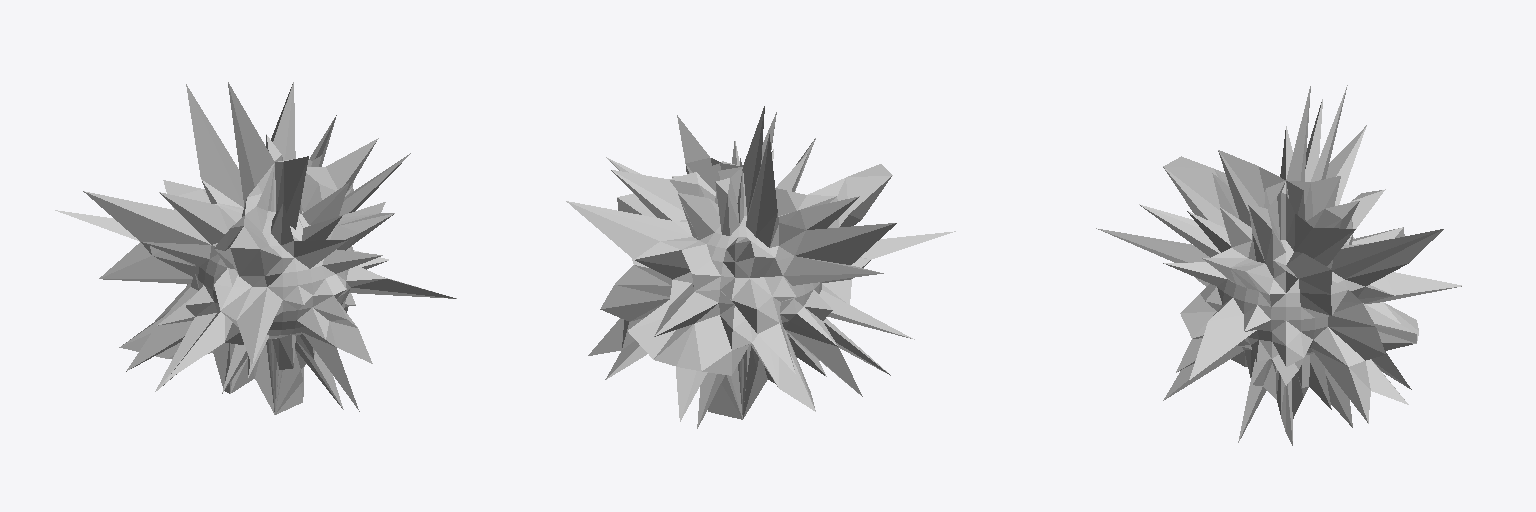
The model's file is outside_ball_piek_2.obj.
3 views of the same model, side by side, from view 1: azimuth 30°, elevation 25°; view 2: azimuth 150°, elevation 25°; view 3: azimuth 270°, elevation 25° (orthographic).
Visible parts, largest first — view 1: Outside_ball_pieks_2; view 2: Outside_ball_pieks_2; view 3: Outside_ball_pieks_2.
Part boxes in pixels (x1,y1,x2,y2): Outside_ball_pieks_2: (55,82,456,414); Outside_ball_pieks_2: (566,106,955,428); Outside_ball_pieks_2: (1096,85,1461,445).
Bounding box in the file's own units: 0.3 × 0.3 × 0.3.